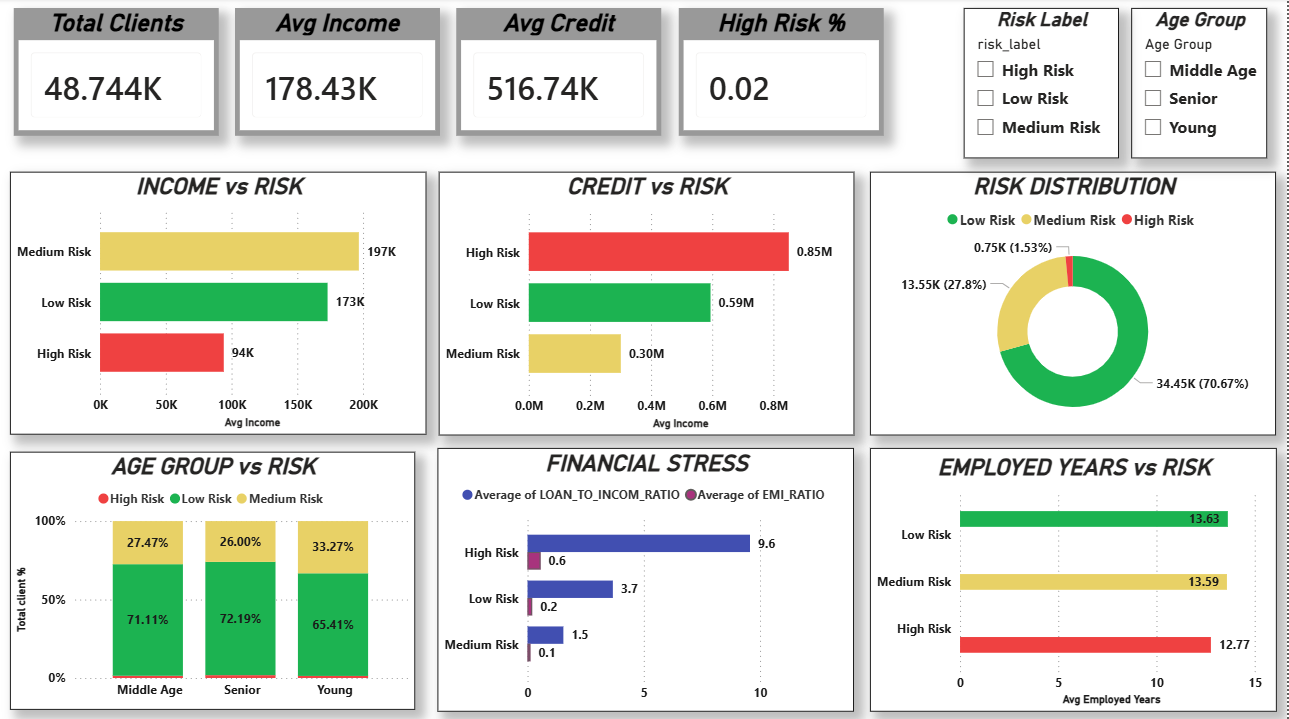

This screenshot's page, from the dashboard's own definition file:
{"tool":"powerbi","page":{"name":"Page 1","canvas":[1280,720],"ordinal":0},"visuals":[{"type":"cardVisual","title":"Total Clients","fields":{"Data":["CountNonNull(FA_SQL-analysd_data.risk_label)"]},"box":[13.7,10,204,126.9],"z":0},{"type":"cardVisual","title":"Avg Income","fields":{"Data":["Avg(FA_SQL-analysd_data.INCOME)"]},"box":[233.9,10,204,126.9],"z":1},{"type":"cardVisual","title":"Avg Credit","fields":{"Data":["Avg(FA_SQL-analysd_data.CREDIT)"]},"box":[454,10,204,126.9],"z":2},{"type":"cardVisual","title":"High Risk %","fields":{"Data":["FA_SQL-analysd_data.High Risk %1"]},"box":[675.5,10,204,126.9],"z":3},{"type":"clusteredBarChart","title":"INCOME vs RISK","fields":{"Y":["Avg(FA_SQL-analysd_data.INCOME)"],"Category":["FA_SQL-analysd_data.risk_label"]},"box":[10,173.1,414.7,261.5],"z":4},{"type":"clusteredBarChart","title":"CREDIT vs RISK","fields":{"Category":["FA_SQL-analysd_data.risk_label"],"Y":["Avg(FA_SQL-analysd_data.CREDIT)"]},"box":[437.1,173.1,413.5,262.8],"z":5},{"type":"donutChart","title":"RISK DISTRIBUTION","fields":{"Category":["FA_SQL-analysd_data.risk_label"],"Y":["CountNonNull(FA_SQL-analysd_data.risk_label)"]},"box":[865.8,172.9,404.3,262.5],"z":6},{"type":"hundredPercentStackedColumnChart","title":"AGE GROUP vs RISK","fields":{"Series":["FA_SQL-analysd_data.risk_label"],"Category":["FA_SQL-analysd_data.Age Group"],"Y":["Sum(FA_SQL-analysd_data.AGE)"]},"box":[10,452.1,403.5,256.5],"z":7},{"type":"clusteredBarChart","title":"FINANCIAL STRESS","fields":{"Category":["FA_SQL-analysd_data.risk_label"],"Y":["Avg(FA_SQL-analysd_data.LOAN_TO_INCOM_RATIO)","Avg(FA_SQL-analysd_data.EMI_RATIO)"]},"box":[435.9,448.3,414.7,262.8],"z":8},{"type":"clusteredBarChart","title":"EMPLOYED YEARS vs RISK","fields":{"Series":["FA_SQL-analysd_data.risk_label"],"Y":["Avg(FA_SQL-analysd_data.EMPLOYED_YEARS)"],"Category":["FA_SQL-analysd_data.risk_label"]},"box":[865.5,448.3,404.7,262.8],"z":9},{"type":"slicer","title":"Age Group","fields":{"Values":["FA_SQL-analysd_data.Age Group"]},"box":[1125.8,10,135.6,149.3],"z":11},{"type":"slicer","title":"Risk Label","fields":{"Values":["FA_SQL-analysd_data.risk_label"]},"box":[959.1,10,154.3,149.3],"z":12}]}

Visuals, with their boxes in screenshot pixels (x1, y1, x2, y2), scaled from the page's 1280x720 canvas onto the 1289x719 screenshot:
"Total Clients" cardVisual: {"x1": 14, "y1": 10, "x2": 219, "y2": 137}
"Avg Income" cardVisual: {"x1": 236, "y1": 10, "x2": 441, "y2": 137}
"Avg Credit" cardVisual: {"x1": 457, "y1": 10, "x2": 663, "y2": 137}
"High Risk %" cardVisual: {"x1": 680, "y1": 10, "x2": 886, "y2": 137}
"INCOME vs RISK" clusteredBarChart: {"x1": 10, "y1": 173, "x2": 428, "y2": 434}
"CREDIT vs RISK" clusteredBarChart: {"x1": 440, "y1": 173, "x2": 857, "y2": 435}
"RISK DISTRIBUTION" donutChart: {"x1": 872, "y1": 173, "x2": 1279, "y2": 435}
"AGE GROUP vs RISK" hundredPercentStackedColumnChart: {"x1": 10, "y1": 451, "x2": 416, "y2": 708}
"FINANCIAL STRESS" clusteredBarChart: {"x1": 439, "y1": 448, "x2": 857, "y2": 710}
"EMPLOYED YEARS vs RISK" clusteredBarChart: {"x1": 872, "y1": 448, "x2": 1279, "y2": 710}
"Age Group" slicer: {"x1": 1134, "y1": 10, "x2": 1270, "y2": 159}
"Risk Label" slicer: {"x1": 966, "y1": 10, "x2": 1121, "y2": 159}
